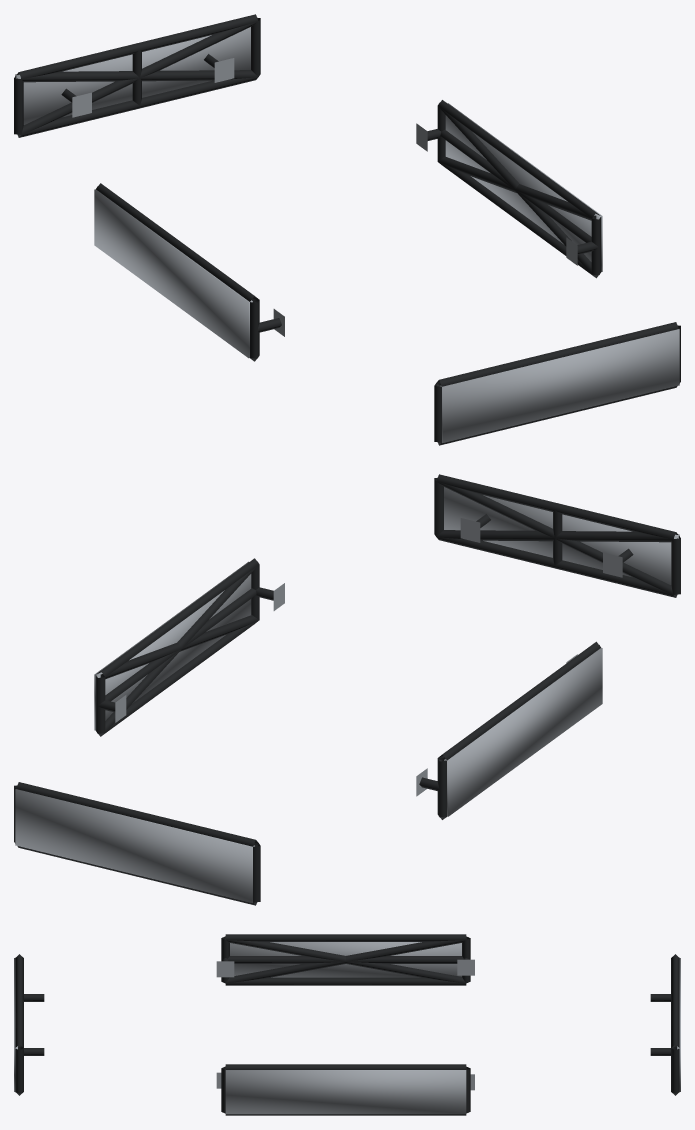
Rendered from vallon_cajuina_protecao.glb.
The picture shows the model from 3 angles, top to bottom: view 1: azimuth 30°, elevation 25°; view 2: azimuth 150°, elevation 25°; view 3: azimuth 270°, elevation 25°; orthographic projection. The views are drawn at different scales.
Visible parts, largest first — view 1: Protection_front_Level3_Details, Protection_left_Level3_Details, Protection_rear_Level1_Details, Protection_rear_Level3_Details, Protection_right_Level1_Details, Protection_rear_Level2_Details, Protection_right_Level2_Details, Protection_right_Level3_Details, Protection_front_Level1_Details, Protection_left_Level1_Details; view 2: Protection_rear_Level3_Details, Protection_left_Level3_Details, Protection_front_Level1_Details, Protection_front_Level3_Details, Protection_right_Level1_Details, Protection_front_Level2_Details, Protection_right_Level2_Details, Protection_right_Level3_Details, Protection_rear_Level1_Details, Protection_left_Level1_Details; view 3: Protection_right_Level3_Details, Protection_left_Level2_Details, Protection_left_Level1_Details, Protection_left_Level3_Details, Protection_right_Level1_Details, Protection_rear_Level1_Details, Protection_front_Level1_Details.
Boxes of the visible parts, <box> form: Protection_front_Level3_Details: <box>440,329,679,443</box>; Protection_left_Level3_Details: <box>94,189,252,358</box>; Protection_rear_Level1_Details: <box>14,14,260,137</box>; Protection_rear_Level3_Details: <box>15,27,250,124</box>; Protection_right_Level1_Details: <box>416,100,601,278</box>; Protection_rear_Level2_Details: <box>16,21,258,136</box>; Protection_right_Level2_Details: <box>438,106,600,277</box>; Protection_right_Level3_Details: <box>445,103,602,271</box>; Protection_front_Level1_Details: <box>434,322,680,445</box>; Protection_left_Level1_Details: <box>96,183,284,361</box>; Protection_rear_Level3_Details: <box>15,789,254,903</box>; Protection_left_Level3_Details: <box>444,648,602,816</box>; Protection_front_Level1_Details: <box>434,474,680,597</box>; Protection_front_Level3_Details: <box>444,487,679,584</box>; Protection_right_Level1_Details: <box>95,558,284,736</box>; Protection_front_Level2_Details: <box>436,481,678,596</box>; Protection_right_Level2_Details: <box>96,565,258,735</box>; Protection_right_Level3_Details: <box>94,561,251,730</box>; Protection_rear_Level1_Details: <box>14,782,260,905</box>; Protection_left_Level1_Details: <box>416,641,600,819</box>; Protection_right_Level3_Details: <box>225,1070,466,1114</box>; Protection_left_Level2_Details: <box>225,937,466,983</box>; Protection_left_Level1_Details: <box>216,934,474,985</box>; Protection_left_Level3_Details: <box>230,942,461,977</box>; Protection_right_Level1_Details: <box>216,1064,474,1115</box>; Protection_rear_Level1_Details: <box>650,954,679,1095</box>; Protection_front_Level1_Details: <box>15,954,44,1095</box>.
Bounding box in the file's own units: 1.99 × 0.354 × 4.16.
1 material, 1 textured.
